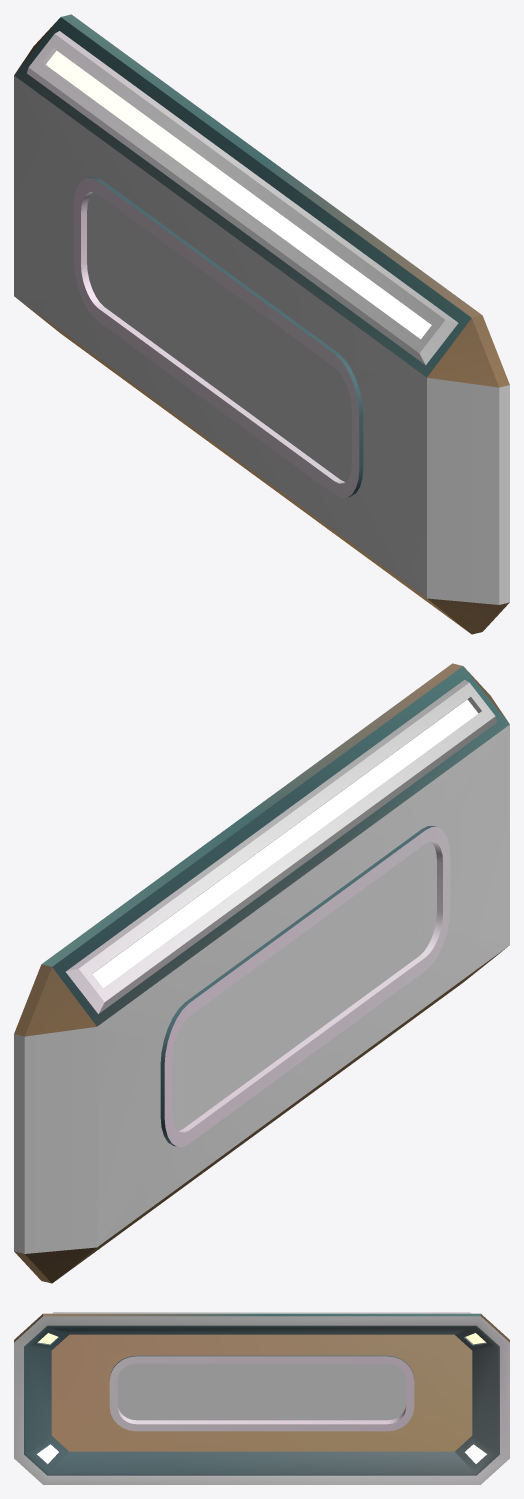
The model's file is C_Cap_BigWindow.fbx.
The picture shows the model from 3 angles, top to bottom: view 1: azimuth 30°, elevation 25°; view 2: azimuth 150°, elevation 25°; view 3: azimuth 270°, elevation 25°; orthographic projection. The views are drawn at different scales.
Visible parts, largest first — view 1: C_Cap_BigWindow; view 2: C_Cap_BigWindow; view 3: C_Cap_BigWindow.
Boxes of the visible parts, x1,y1,x2,y2 form: C_Cap_BigWindow: (14,14,509,634); C_Cap_BigWindow: (14,663,509,1283); C_Cap_BigWindow: (14,1312,509,1484).
Bounding box in the file's own units: 66.08 × 330 × 880.
